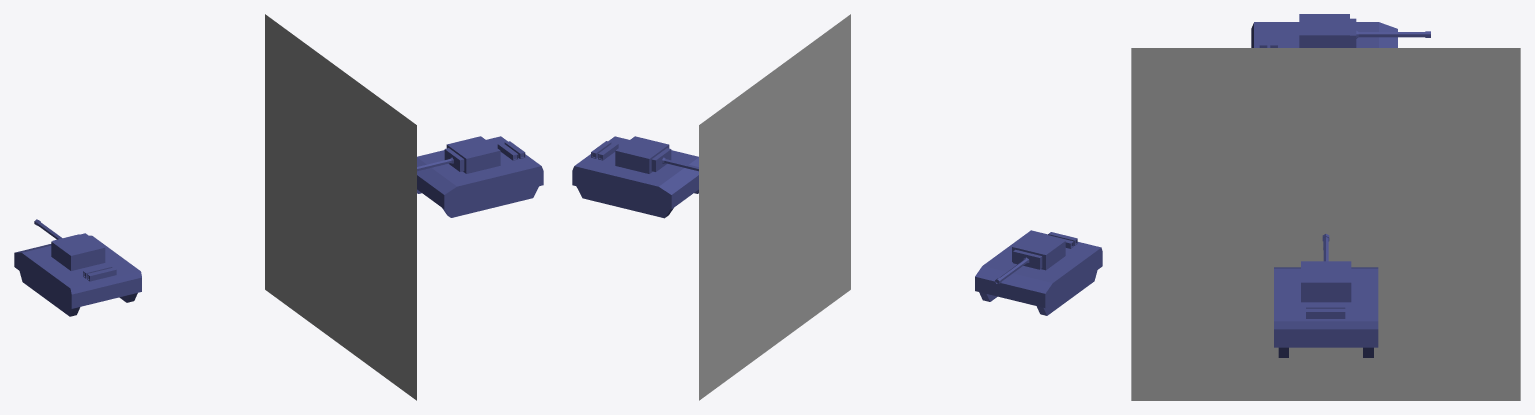
The picture shows the model from 3 angles, left to right: view 1: azimuth 30°, elevation 25°; view 2: azimuth 150°, elevation 25°; view 3: azimuth 270°, elevation 25°; orthographic projection. The views are drawn at different scales.
Visible parts, largest first — view 1: bsp_plano1, BaseTanke (×2), BaseCanon (×2); view 2: bsp_plano1, BaseTanke (×2), BaseCanon (×2); view 3: bsp_plano1, BaseTanke (×2), BaseCanon (×2), scenaOBJ:TankeBaseCanonCanon, tubito2.
Boxes of the visible parts, x1,y1,x2,y2 form: bsp_plano1: [265, 14, 416, 400]; BaseTanke (×2): [14, 136, 543, 316]; BaseCanon (×2): [51, 136, 500, 270]; bsp_plano1: [699, 14, 850, 400]; BaseTanke (×2): [572, 136, 1102, 315]; BaseCanon (×2): [615, 136, 1065, 270]; bsp_plano1: [1131, 48, 1520, 400]; BaseTanke (×2): [1251, 22, 1397, 357]; BaseCanon (×2): [1299, 14, 1356, 302]; scenaOBJ:TankeBaseCanonCanon: [1356, 30, 1430, 38]; tubito2: [1306, 308, 1345, 318].
Bounding box in the file's own units: 18.25 × 10 × 10.
